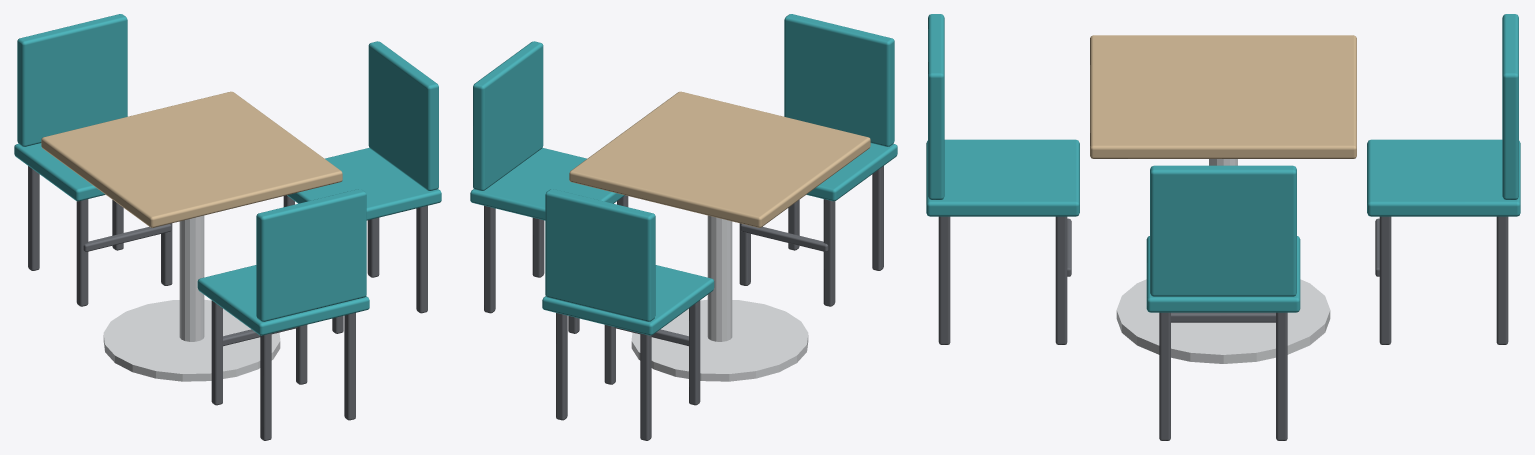
The model's file is public-aquarium-and-marine-centre-cafe-table-and-chair-fa60fcbf__34167.glb.
3 renders of one model, left to right at view 1: azimuth 30°, elevation 25°; view 2: azimuth 150°, elevation 25°; view 3: azimuth 270°, elevation 25°, orthographic. The views are drawn at different scales.
Parts seen in each view (by area): view 1: cafe-table-and-chairs; view 2: cafe-table-and-chairs; view 3: cafe-table-and-chairs.
Part boxes in pixels (box(x1,y1,x2,y2)): cafe-table-and-chairs: box(14, 14, 441, 440); cafe-table-and-chairs: box(470, 14, 897, 440); cafe-table-and-chairs: box(926, 14, 1520, 440).
Bounding box in the file's own units: 1.31 × 0.9101 × 1.78.
